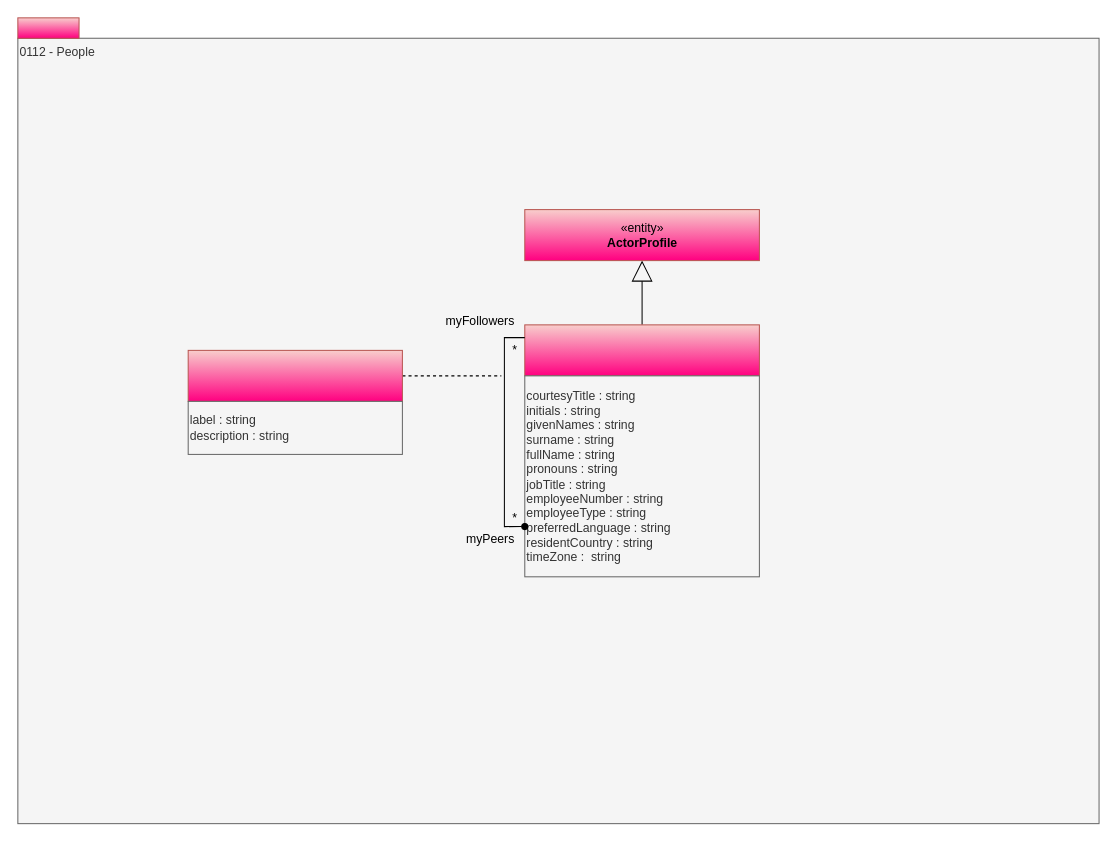
This 1117x842 diagram has some shape labels left out. The shapes that lost their labels are listed below. From the top down, each one's box as (x1, y1, x2, y2) in pixels, then its label:
(524, 324, 759, 376): «entity» Person
(187, 349, 402, 401): «relationship» Peer
